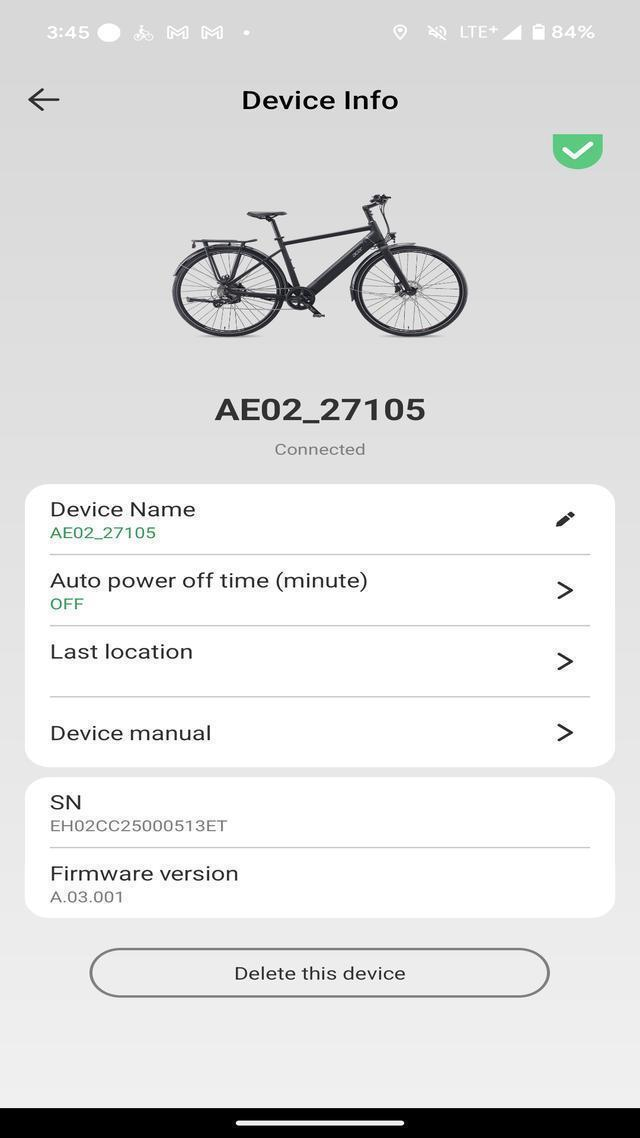Icon: (552, 130, 604, 170), (456, 18, 526, 44), (544, 500, 582, 534), (28, 87, 62, 121), (130, 21, 159, 45), (95, 22, 124, 46), (164, 20, 191, 44), (554, 578, 576, 607), (198, 22, 226, 44), (554, 721, 576, 748), (555, 649, 575, 677), (424, 21, 448, 43), (531, 18, 548, 44), (394, 24, 409, 46), (239, 24, 254, 42)
Image: (147, 176, 496, 351)
Text: (41, 563, 380, 595), (206, 389, 434, 429), (234, 81, 410, 120), (43, 634, 207, 668), (222, 959, 422, 986), (40, 718, 224, 747), (44, 816, 236, 840), (40, 860, 246, 882), (38, 496, 206, 520), (264, 438, 379, 466), (42, 520, 170, 544), (46, 886, 132, 910), (42, 594, 96, 615), (40, 790, 96, 810), (553, 20, 599, 44), (42, 22, 92, 44)
TextButton: (88, 946, 552, 1000)
